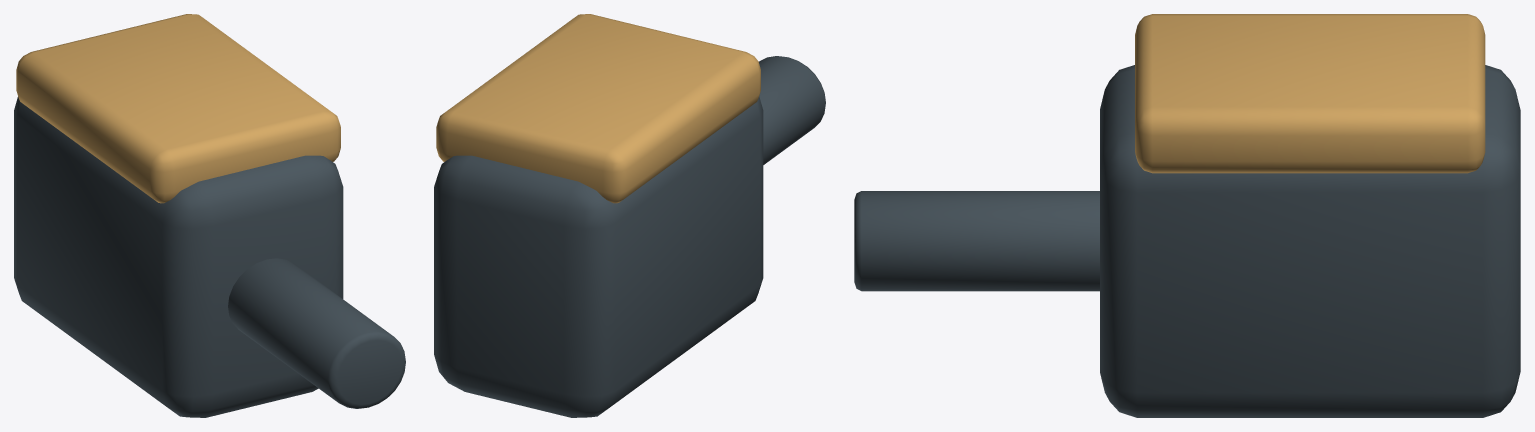
File: special-sidearm.t3.glb
3 renders of one model, left to right at view 1: azimuth 30°, elevation 25°; view 2: azimuth 150°, elevation 25°; view 3: azimuth 270°, elevation 25°, orthographic. The views are drawn at different scales.
Visible parts, largest first — view 1: weapon_right.002__forged_bluelead_steel__protected, weapon_right.002__worn_warm_brass__protected; view 2: weapon_right.002__forged_bluelead_steel__protected, weapon_right.002__worn_warm_brass__protected; view 3: weapon_right.002__forged_bluelead_steel__protected, weapon_right.002__worn_warm_brass__protected.
Part boxes in pixels (x1,y1,x2,y2): weapon_right.002__forged_bluelead_steel__protected: [14, 96, 405, 417]; weapon_right.002__worn_warm_brass__protected: [16, 14, 340, 203]; weapon_right.002__forged_bluelead_steel__protected: [434, 56, 825, 417]; weapon_right.002__worn_warm_brass__protected: [436, 14, 760, 203]; weapon_right.002__forged_bluelead_steel__protected: [854, 65, 1520, 417]; weapon_right.002__worn_warm_brass__protected: [1135, 14, 1485, 173].
Size of the model in its own units: 0.17 by 0.2308 by 0.4347.
